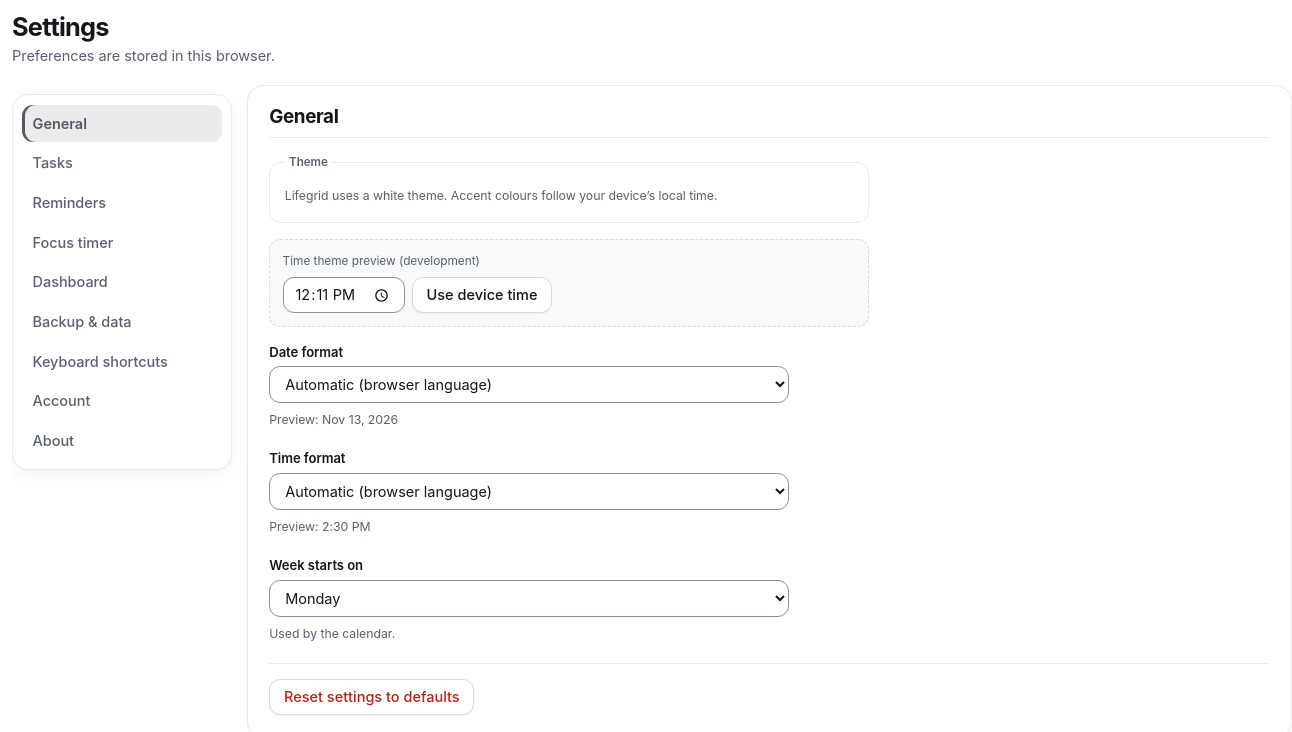
Test case: general › date and time formats persist and preview live
Select "2026-10-21" in the dropdown labelled "Date format": coordinates (529, 385) [269,366,789,404]
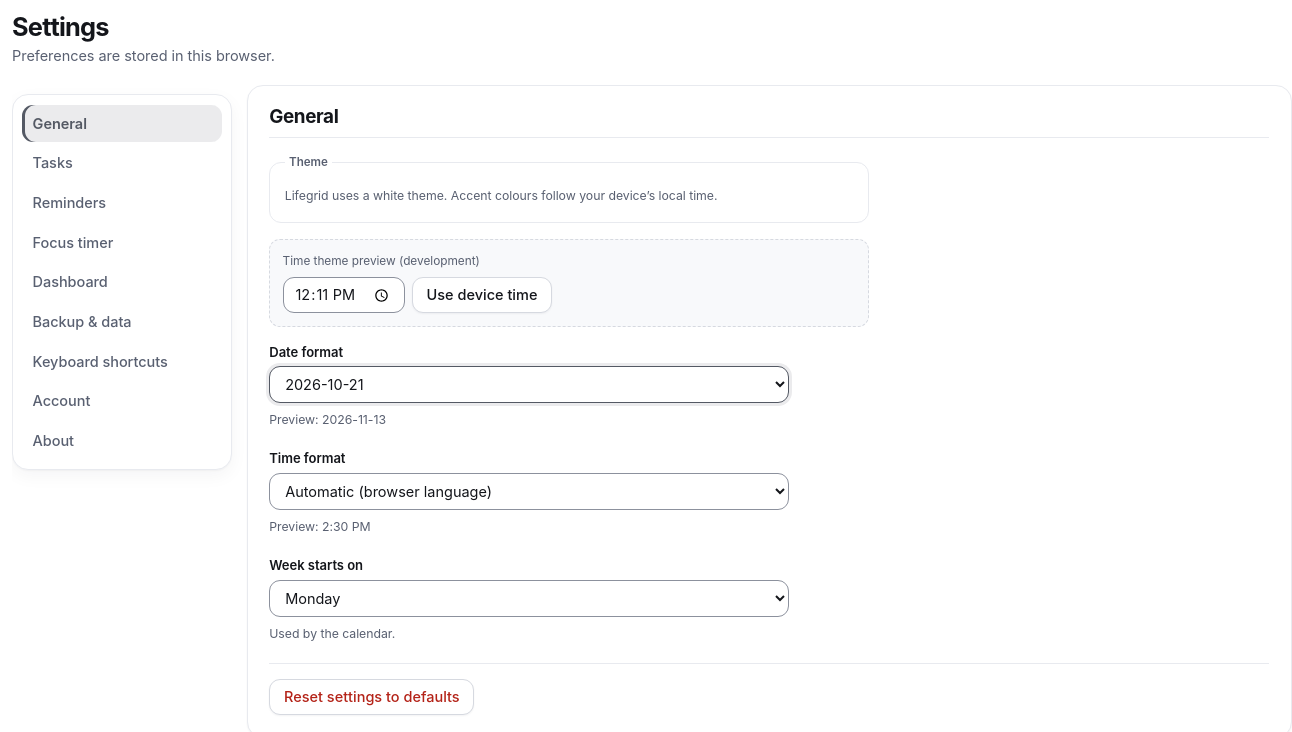
Check: the text "Preview: 2026-11-13" is shown, box [269,412,386,427]
Select "12-hour" in the dropdown labelled "Time format": coordinates (529, 492) [269,473,789,510]
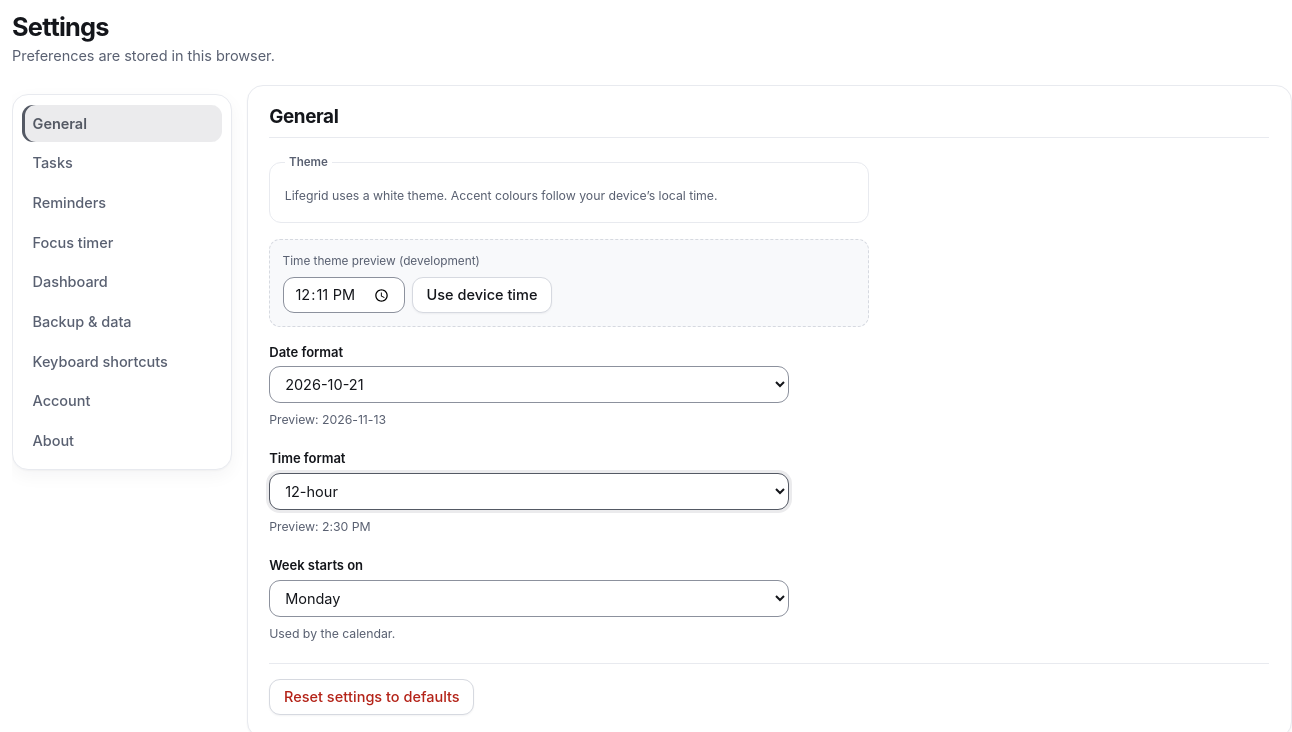
Check: the text "Preview: 2:30 PM" is shown, box [269,519,371,534]
Select "24-hour" in the dropdown labelled "Time format": coordinates (529, 492) [269,473,789,510]
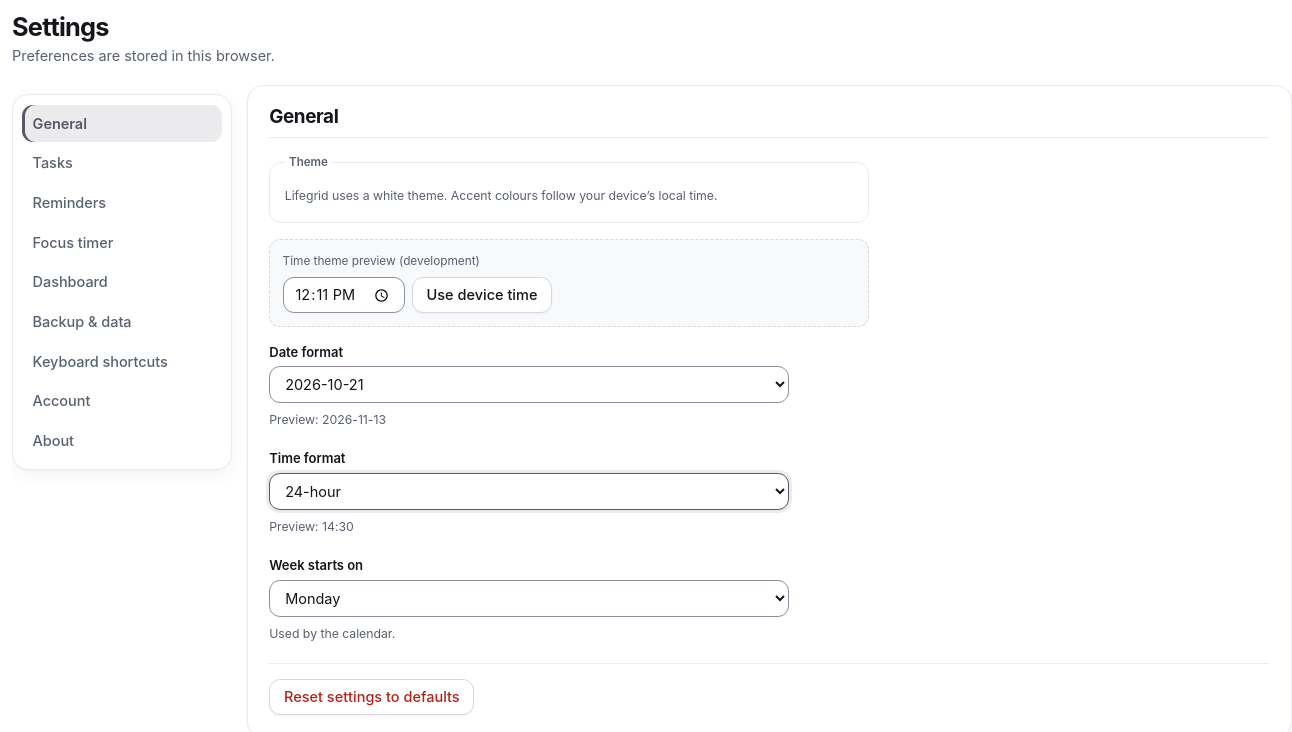
Check: the text "Preview: 14:30" is shown, box [269,519,354,534]
